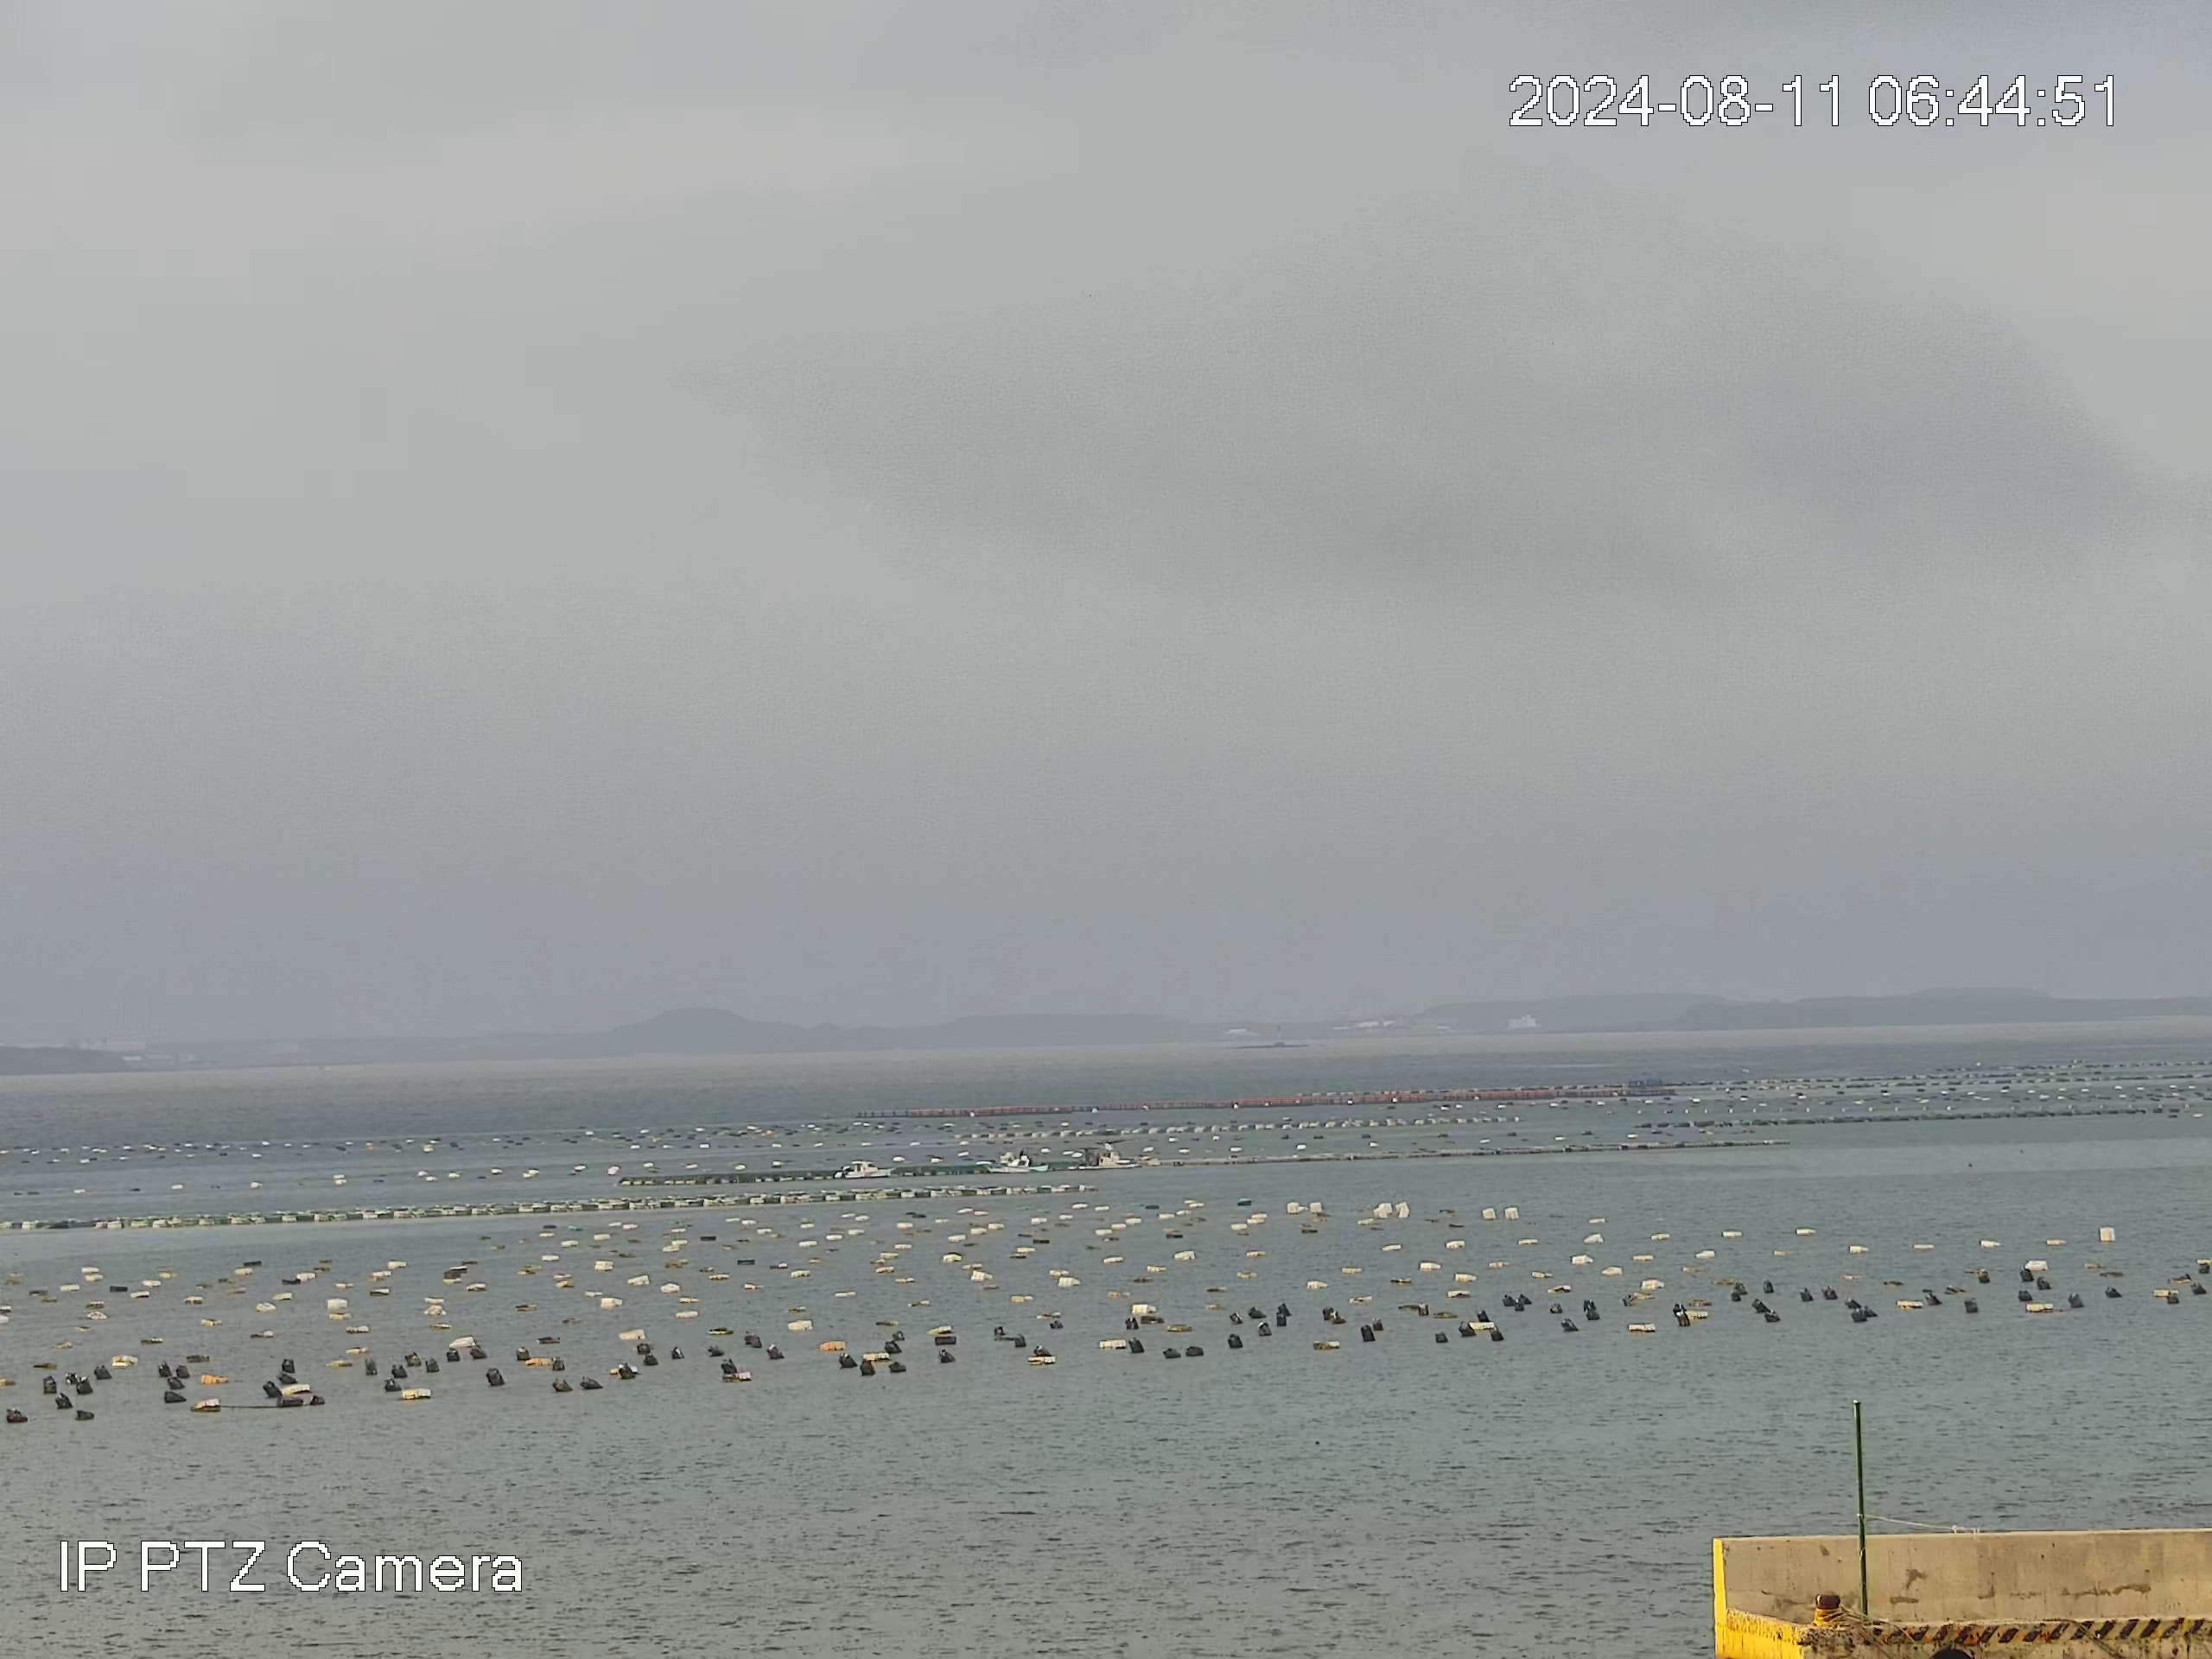boat: (975, 1154, 1052, 1176), (833, 1157, 894, 1182), (1064, 1150, 1122, 1169)
